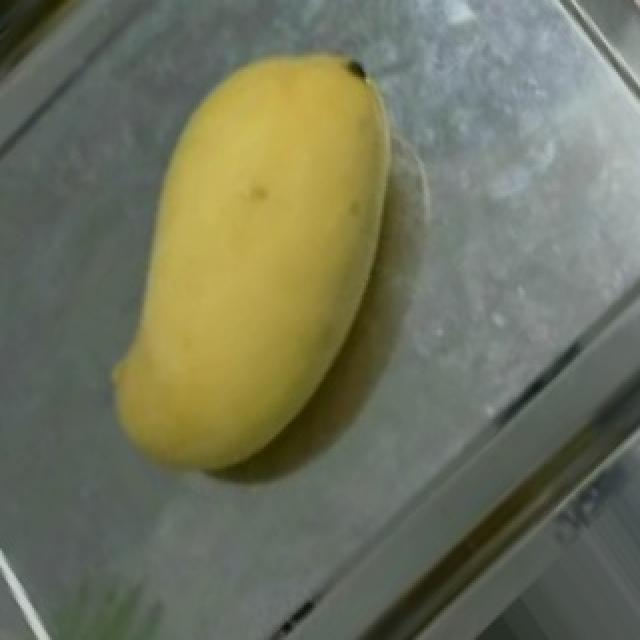fruit: (86, 5, 512, 474)
